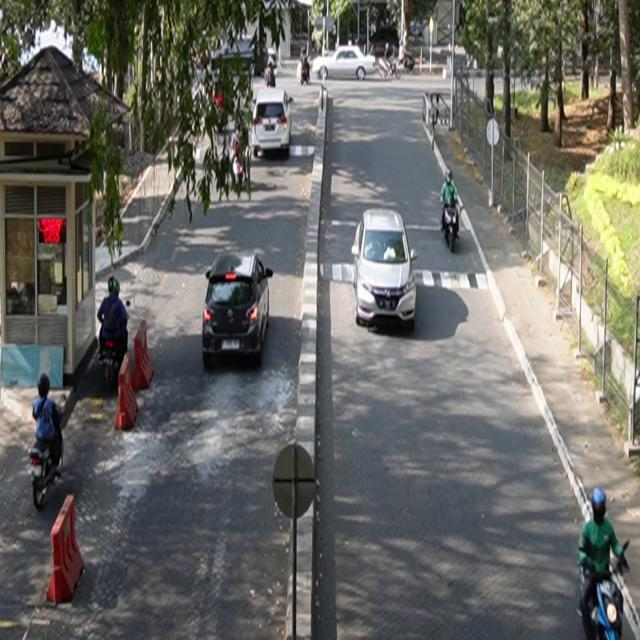car: (203, 252, 274, 370), (352, 209, 419, 331), (252, 88, 295, 159), (313, 46, 377, 82)
